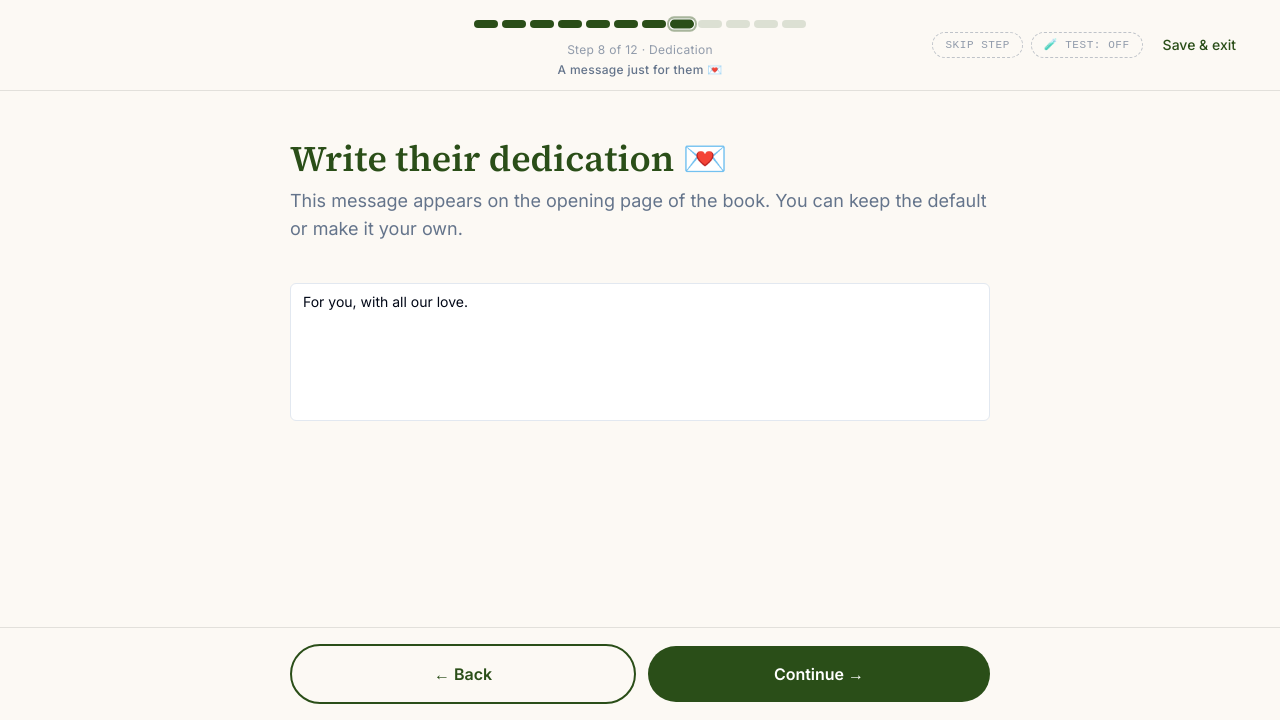
Test: Step8Dedication — missingHint › shows missingHint when the textarea is cleared
Clear the text box at [640, 352], box [290,283,990,421]
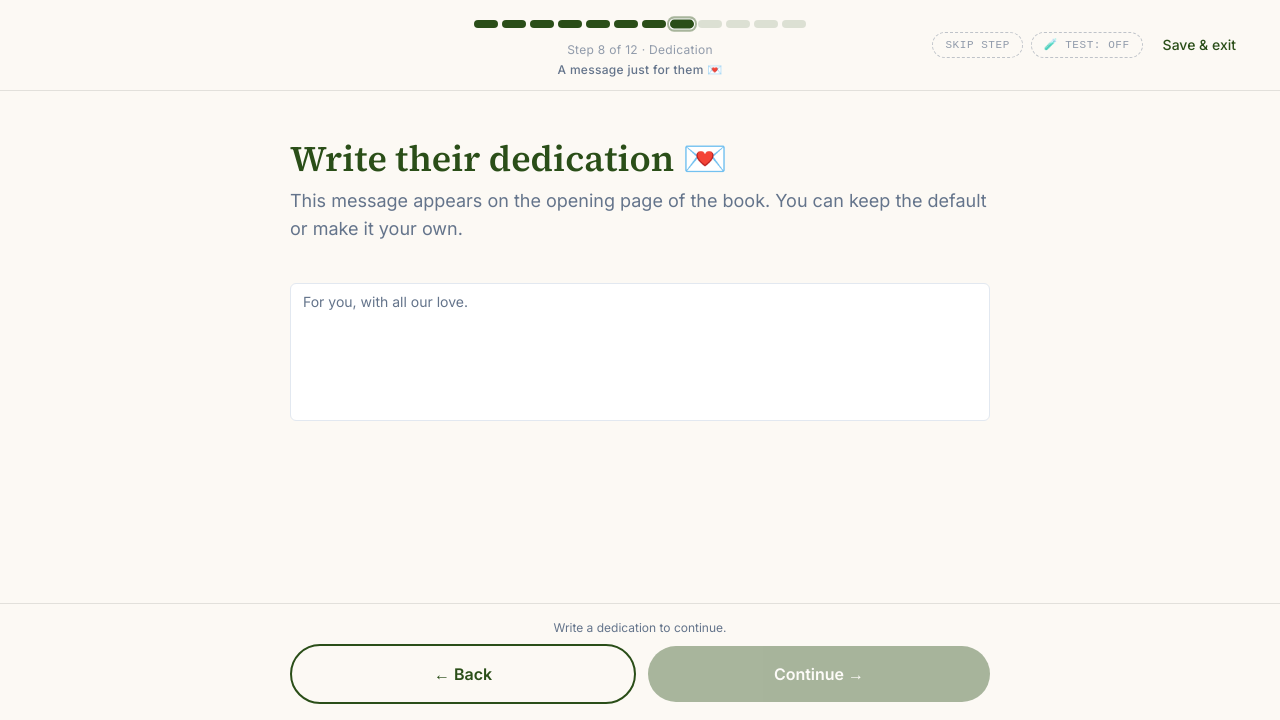
Now the text "Write a dedication to continue." is shown, box [554,620,726,636]
